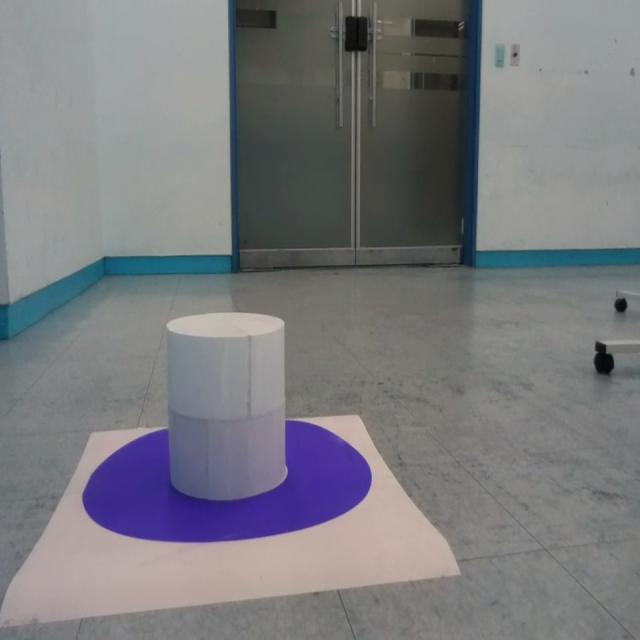cylinder: (165, 311, 288, 500)
